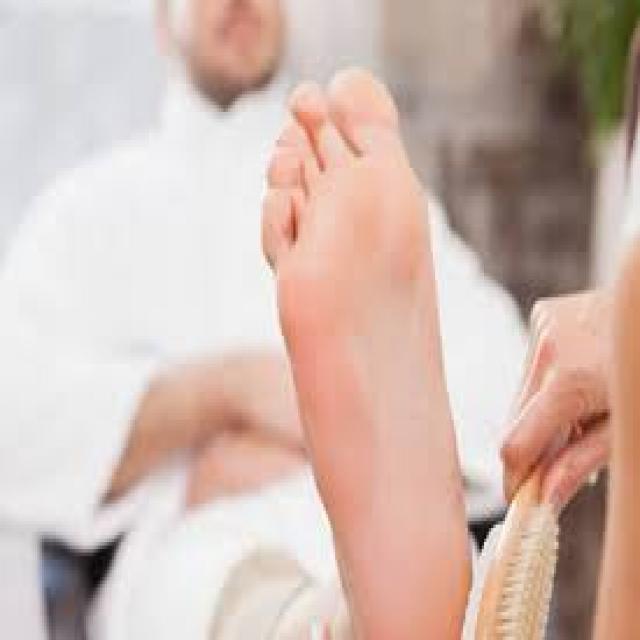No_Shoes: (237, 74, 484, 640)
